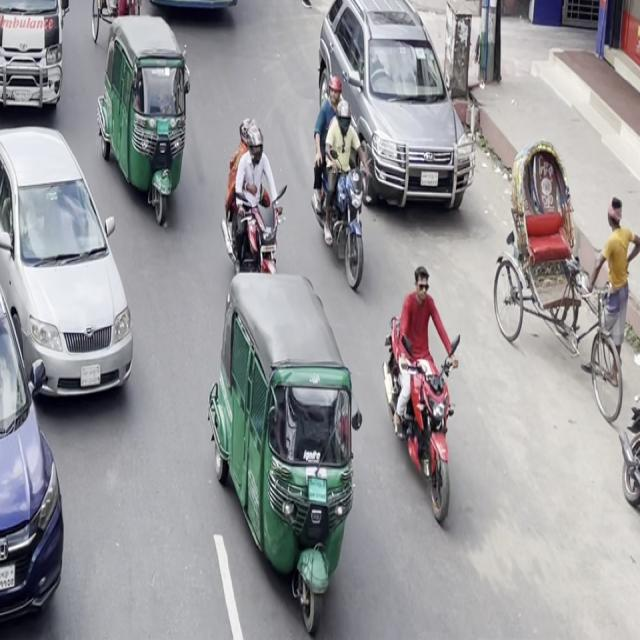bus: (110, 0, 250, 28)
car: (0, 106, 143, 425), (311, 0, 478, 224), (0, 200, 75, 620), (0, 0, 75, 126)
motorbike: (374, 260, 478, 534), (213, 108, 291, 312)
rickshaw: (198, 265, 377, 620), (94, 0, 200, 241)
